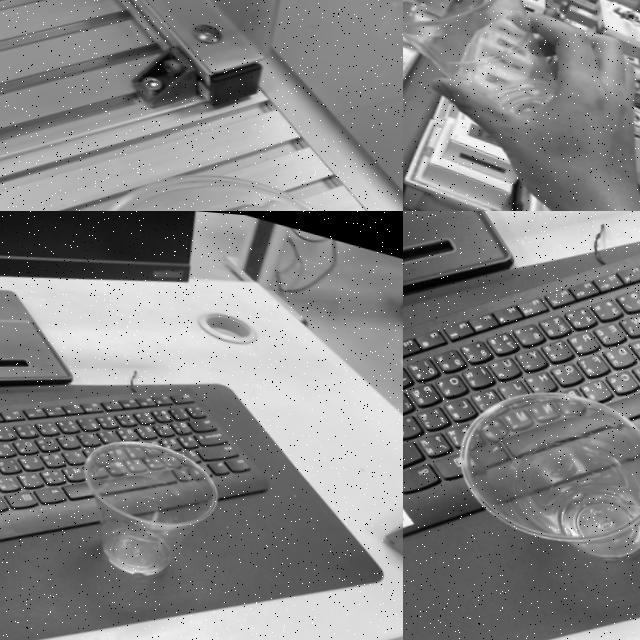glass: (437, 351, 640, 575), (58, 413, 231, 591), (52, 129, 403, 211), (403, 0, 591, 120)
